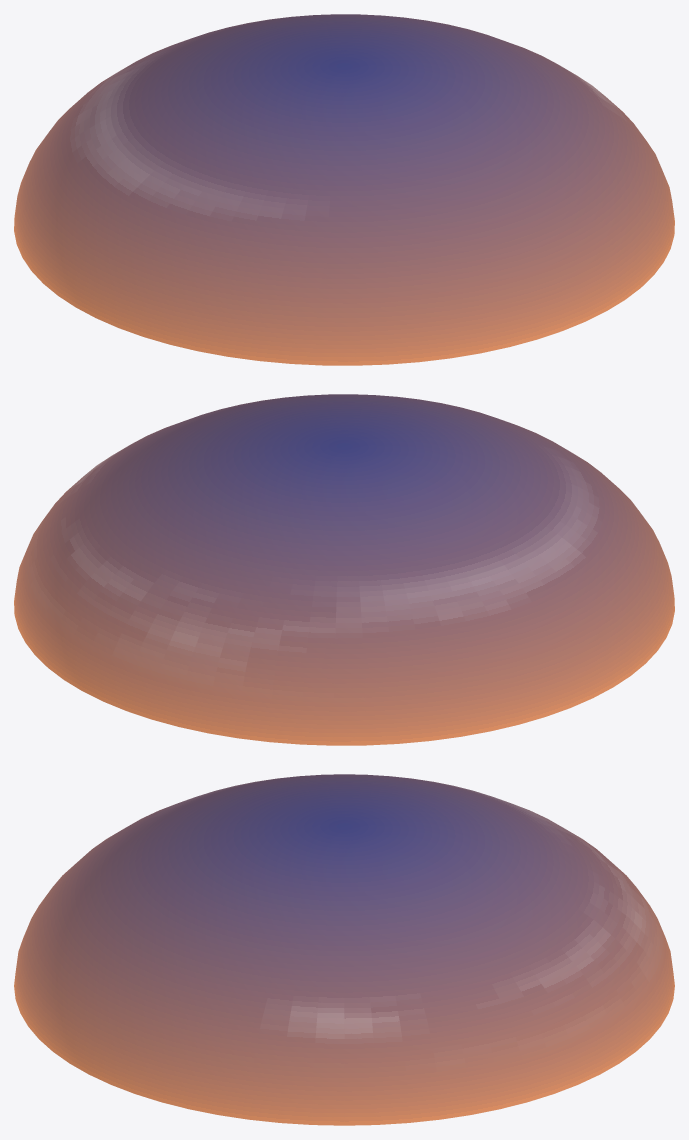
The model's file is env-sky-climate-dao.glb.
3 renders of one model, top to bottom at view 1: azimuth 30°, elevation 25°; view 2: azimuth 150°, elevation 25°; view 3: azimuth 270°, elevation 25°, orthographic.
Visible parts, largest first — view 1: Sky; view 2: Sky; view 3: Sky.
Part boxes in pixels (bbox=[...]): Sky: bbox=[14, 14, 674, 365]; Sky: bbox=[14, 394, 674, 745]; Sky: bbox=[14, 774, 674, 1125].
Size of the model in its own units: 1200 by 320 by 1200.
Materials: 2 (1 with a texture image).
